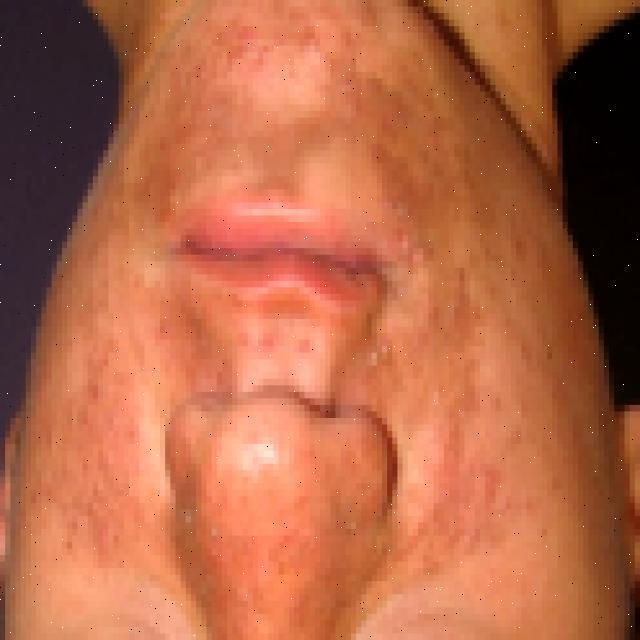Melasma: (368, 52, 517, 606), (26, 274, 199, 616), (105, 105, 344, 235)
